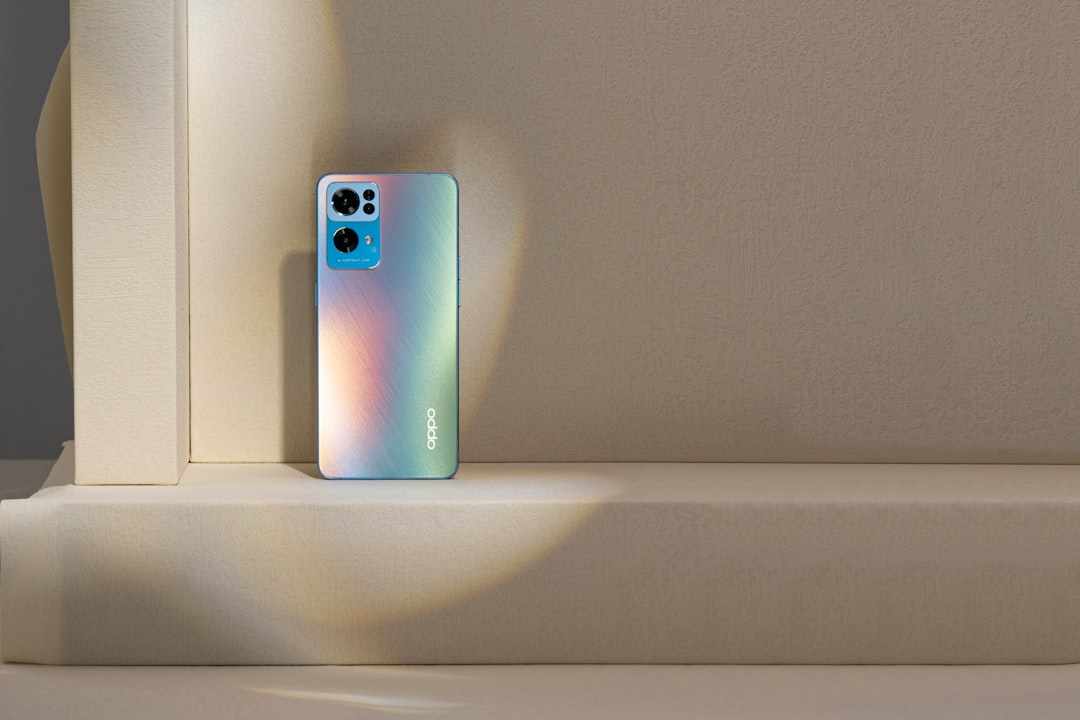phone: (317, 171, 463, 483)
